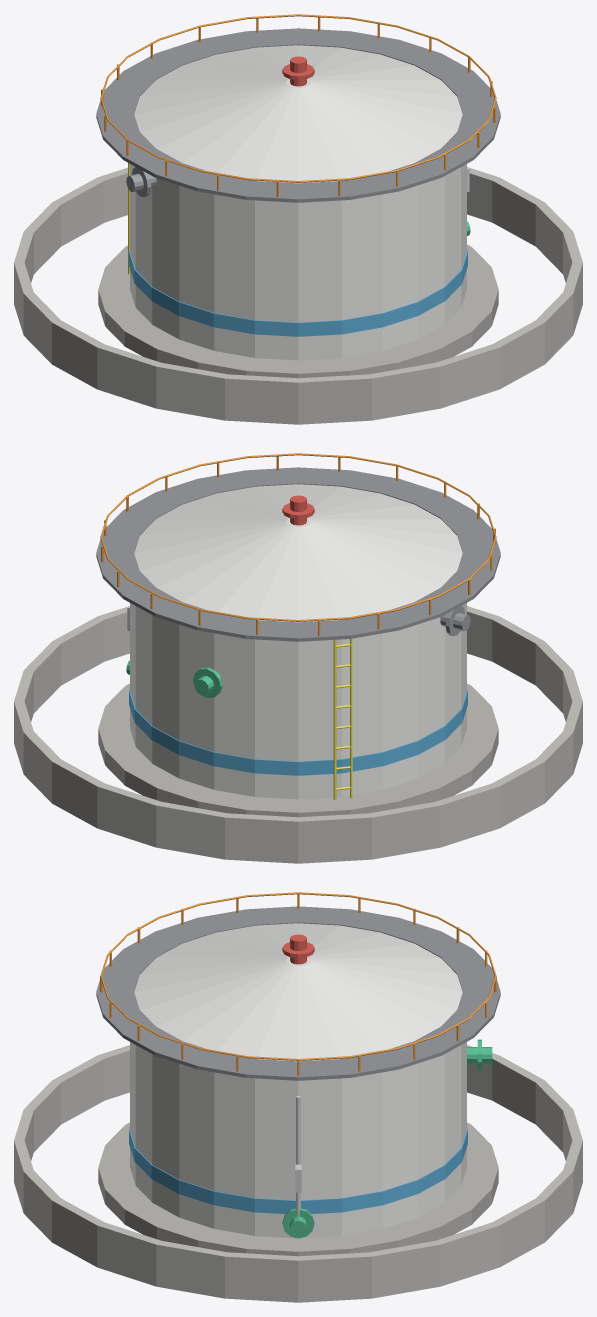
Rendered from methanol tank.fbx.
The picture shows the model from 3 angles, top to bottom: view 1: azimuth 30°, elevation 25°; view 2: azimuth 150°, elevation 25°; view 3: azimuth 270°, elevation 25°; orthographic projection.
Parts seen in each view (by area): view 1: Methanol_Storage_Tank, Methanol_Tank_Foundation_Bund; view 2: Methanol_Storage_Tank, Methanol_Tank_Foundation_Bund; view 3: Methanol_Storage_Tank, Methanol_Tank_Foundation_Bund.
Part boxes in pixels (x1,y1,x2,y2): Methanol_Storage_Tank: (96,14,500,360); Methanol_Tank_Foundation_Bund: (14,167,582,424); Methanol_Storage_Tank: (96,453,500,800); Methanol_Tank_Foundation_Bund: (14,606,582,863); Methanol_Storage_Tank: (96,892,500,1238); Methanol_Tank_Foundation_Bund: (14,1045,582,1302).
Size of the model in its own units: 270 by 128 by 270.
